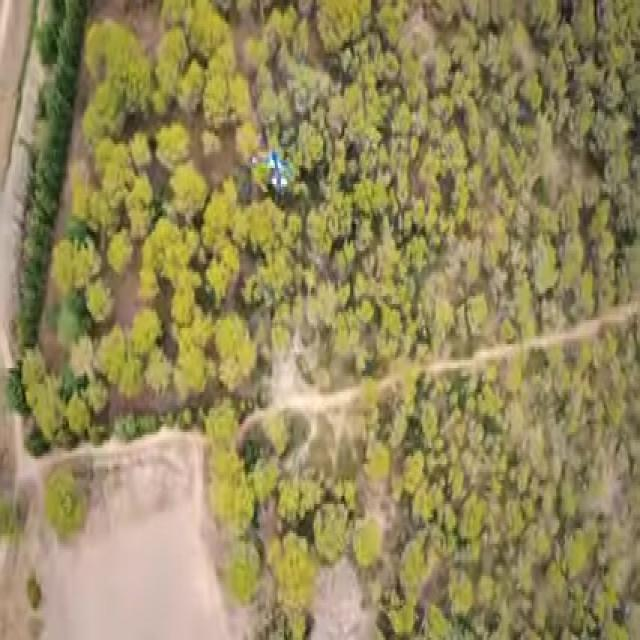iha: (259, 150, 294, 192)
